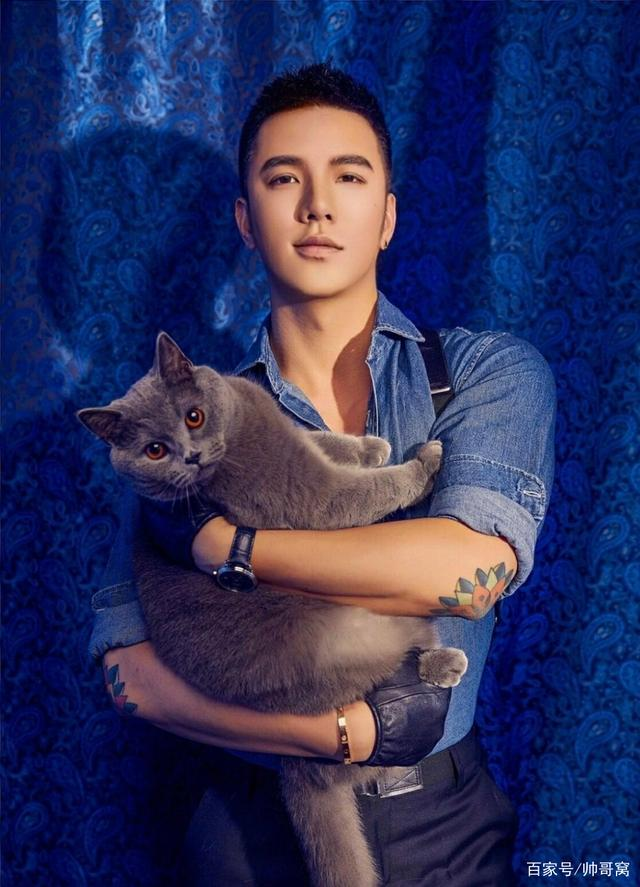person: (161, 45, 533, 814)
